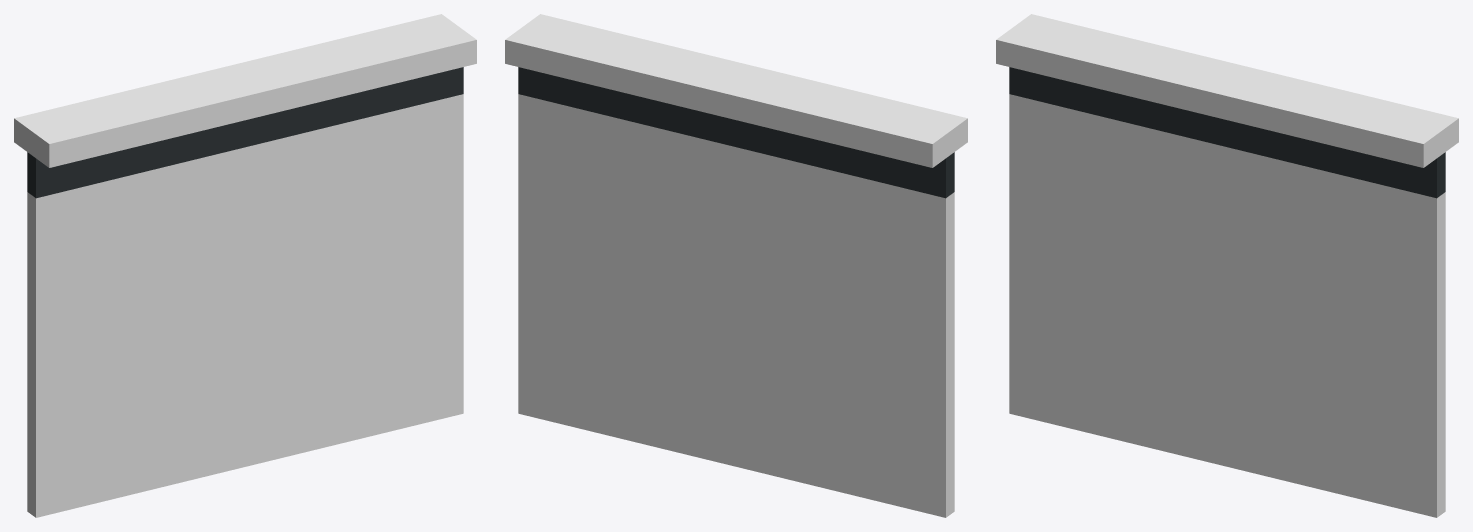
Rendered from penghubung_outside_corridor_1_tembok.obj.
3 renders of one model, left to right at view 1: azimuth 30°, elevation 25°; view 2: azimuth 150°, elevation 25°; view 3: azimuth 330°, elevation 25°, orthographic.
Size of the model in its own units: 5.6 by 4.8 by 0.8.
Materials: 1 (1 with a texture image).
